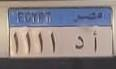1: (36, 30, 46, 55), (48, 31, 58, 55), (24, 31, 33, 54), (13, 29, 21, 54)
alif: (89, 28, 101, 53)
daal: (74, 33, 85, 52)
